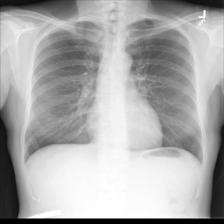normal: (17, 13, 208, 175)
